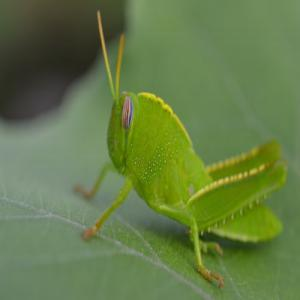locust: (74, 32, 300, 274)
